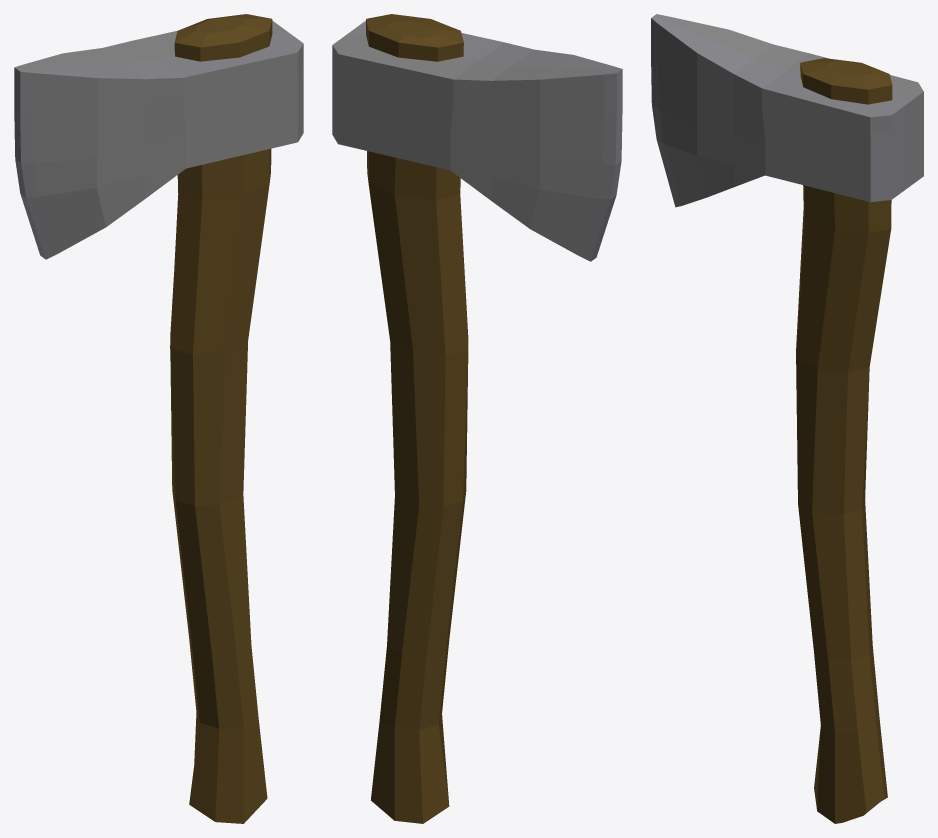
The model's file is Axe.fbx.
3 views of the same model, side by side, from view 1: azimuth 30°, elevation 25°; view 2: azimuth 150°, elevation 25°; view 3: azimuth 330°, elevation 25° (orthographic). The views are drawn at different scales.
Visible parts, largest first — view 1: Box002; view 2: Box002; view 3: Box002.
Boxes of the visible parts, x1,y1,x2,y2 form: Box002: [14, 14, 303, 823]; Box002: [332, 14, 622, 823]; Box002: [651, 14, 923, 823].
Size of the model in its own units: 113 by 320 by 36.89.
